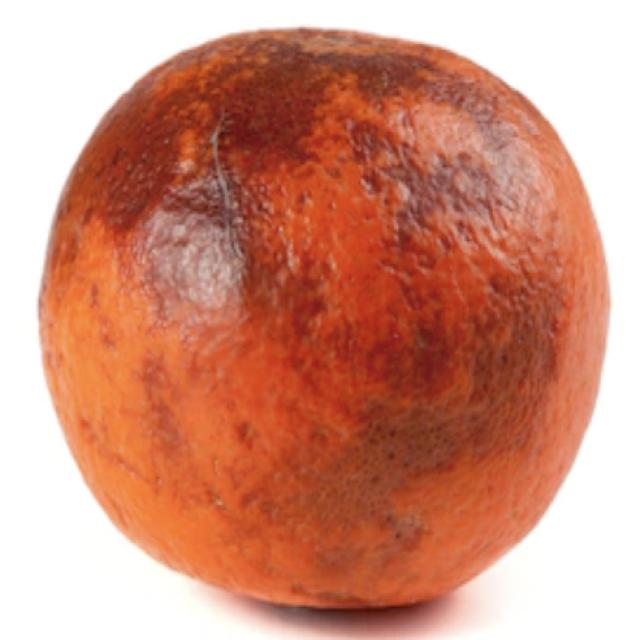sedikit_busuk: (32, 20, 610, 618)
